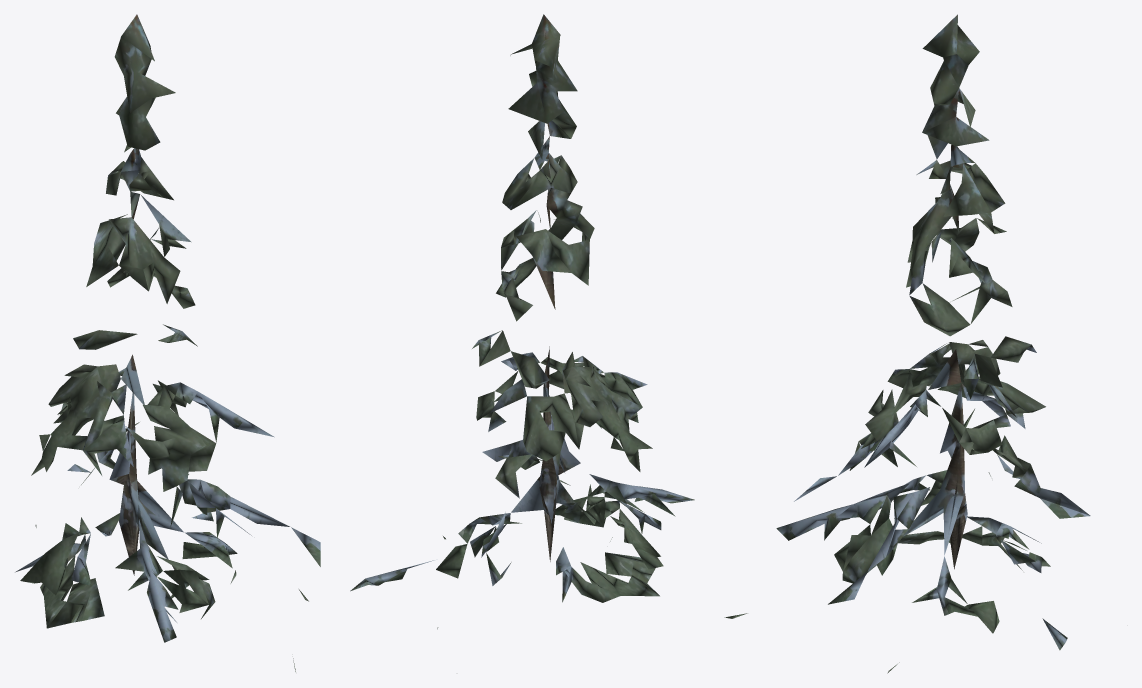
The model's file is tundra-tree-1.glb.
3 renders of one model, left to right at view 1: azimuth 30°, elevation 25°; view 2: azimuth 150°, elevation 25°; view 3: azimuth 270°, elevation 25°, orthographic.
Visible parts, largest first — view 1: geometry_0.001; view 2: geometry_0.001; view 3: geometry_0.001.
Boxes of the visible parts, x1,y1,x2,y2 form: geometry_0.001: [15, 14, 320, 671]; geometry_0.001: [350, 14, 694, 629]; geometry_0.001: [724, 14, 1090, 673].
Size of the model in its own units: 0.3565 by 0.8128 by 0.4873.
1 material, 1 textured.
